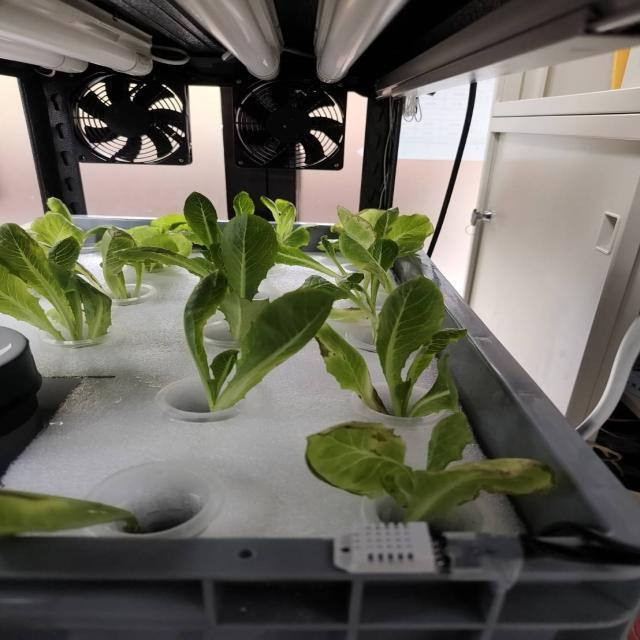Lettuce-Not-Ready-to-Harvest: (307, 412, 553, 521), (315, 276, 467, 418), (183, 271, 335, 411), (280, 206, 400, 327), (0, 224, 112, 341), (218, 214, 278, 341), (0, 490, 138, 536), (357, 209, 433, 256), (100, 226, 145, 298), (125, 214, 202, 256), (27, 198, 88, 250), (118, 246, 217, 278), (260, 196, 317, 249), (183, 192, 222, 248), (233, 191, 255, 216)
